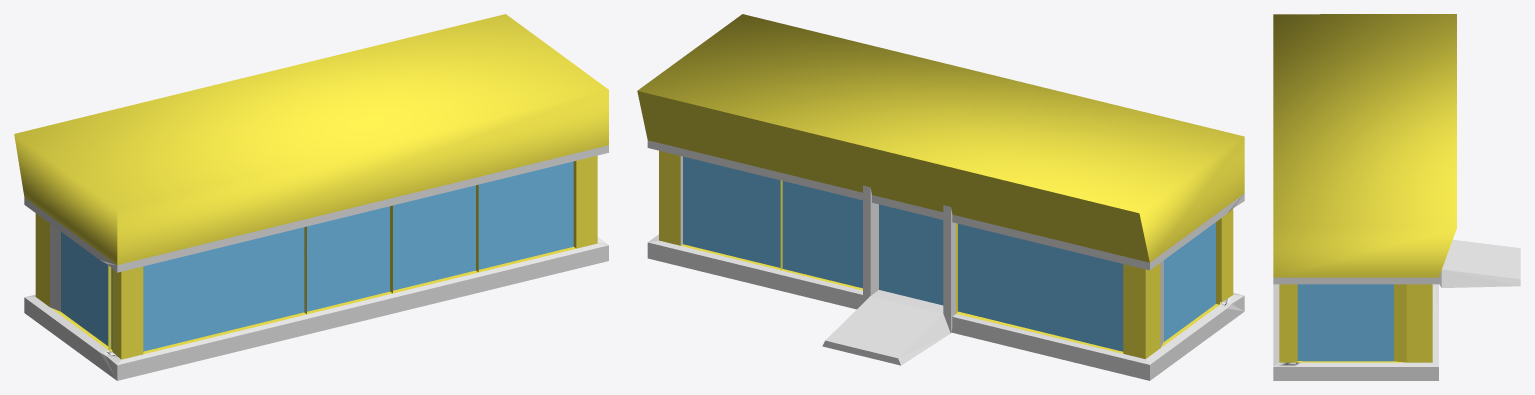
File: Shop6x2x2Yellow.fbx
3 views of the same model, side by side, from view 1: azimuth 30°, elevation 25°; view 2: azimuth 150°, elevation 25°; view 3: azimuth 270°, elevation 25° (orthographic). The views are drawn at different scales.
Parts seen in each view (by area): view 1: Shop.002; view 2: Shop.002; view 3: Shop.002.
Part boxes in pixels (<box>): Shop.002: <box>14,14,608,380</box>; Shop.002: <box>637,14,1244,380</box>; Shop.002: <box>1273,14,1520,380</box>.
Size of the model in its own units: 5.94 by 1.98 by 2.91.
Materials: 1 (1 with a texture image).
